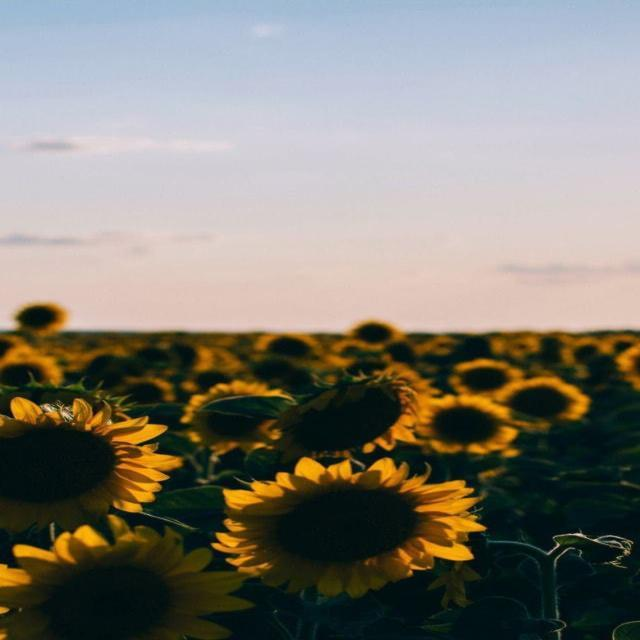sunflower: (210, 456, 486, 599), (0, 515, 254, 639), (0, 396, 182, 534), (269, 369, 420, 458), (178, 378, 294, 456), (406, 394, 524, 456), (493, 376, 590, 425), (447, 358, 523, 396), (256, 332, 324, 362), (0, 356, 63, 388), (13, 302, 67, 338), (345, 319, 405, 347), (116, 375, 175, 403), (182, 368, 232, 392), (614, 345, 639, 391), (562, 336, 600, 366), (598, 334, 640, 356), (0, 334, 31, 358), (506, 336, 539, 358)
